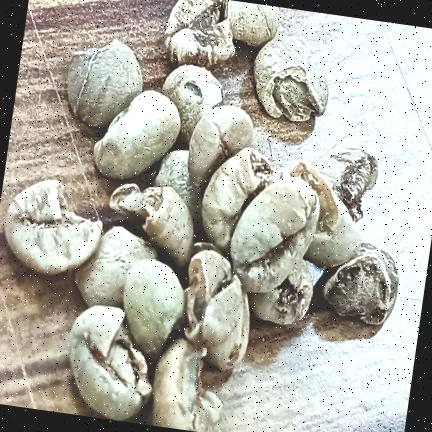cut: (230, 177, 319, 292), (67, 305, 151, 421), (4, 179, 102, 274), (201, 147, 279, 251), (184, 250, 249, 369), (93, 90, 180, 178), (290, 160, 361, 267), (109, 183, 193, 267), (150, 338, 222, 432), (66, 39, 142, 127), (74, 226, 156, 306), (253, 35, 328, 121), (321, 242, 398, 324), (123, 259, 183, 360), (187, 105, 254, 191), (161, 65, 223, 147), (164, 0, 234, 69), (312, 148, 378, 221), (248, 260, 312, 324), (153, 150, 200, 221), (225, 0, 279, 47), (188, 250, 231, 300)
